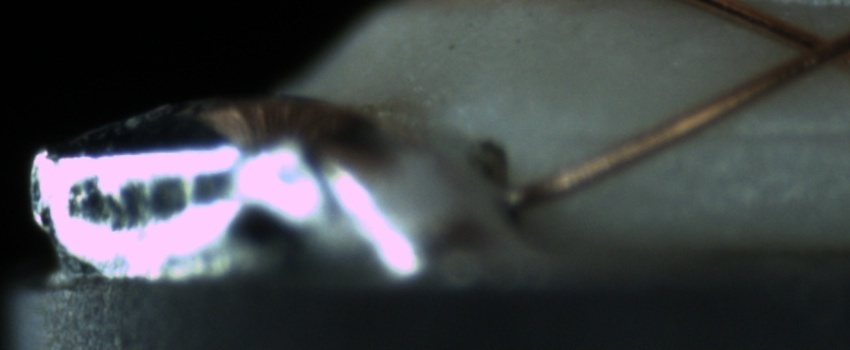CL: (779, 16, 849, 76)
DL: (563, 100, 849, 163)
